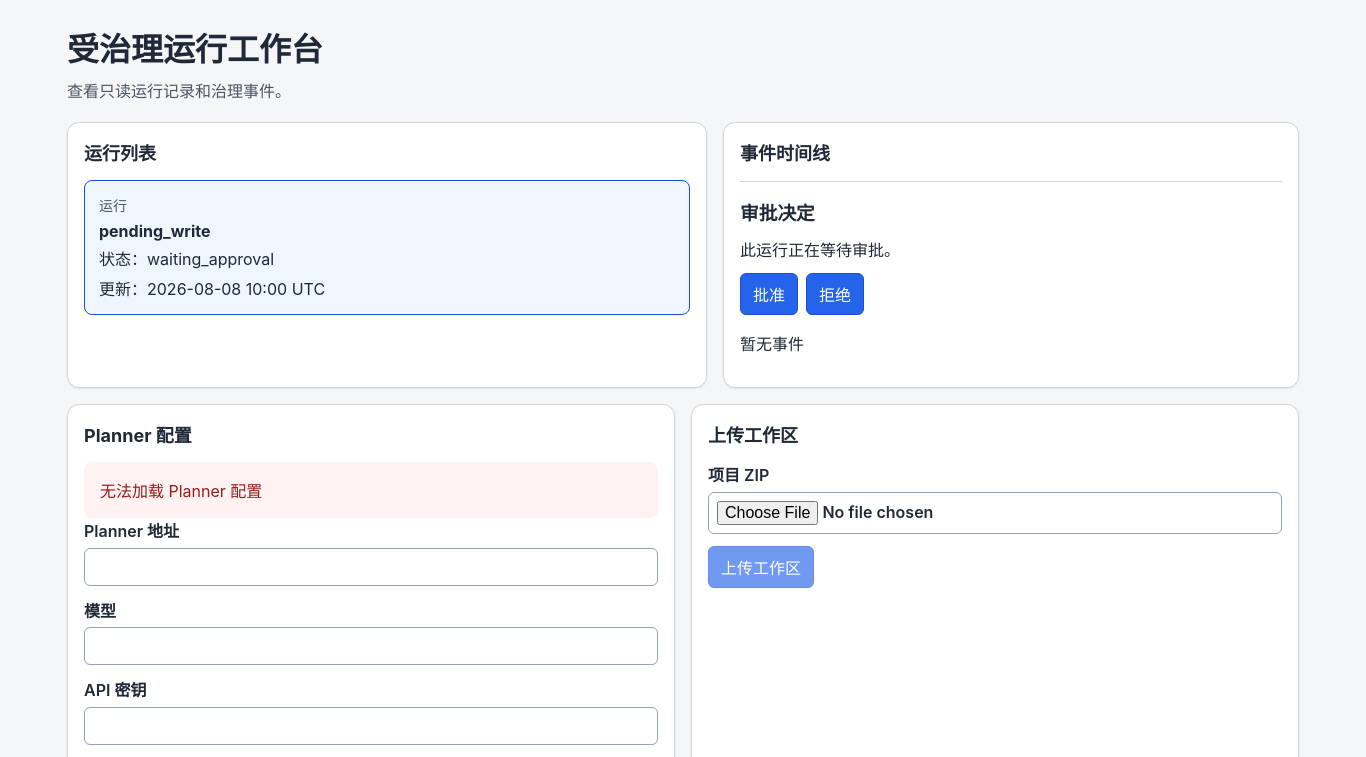
Scenario: App › reloads the selected run detail after a successful approval decision
Click the button "批准".
click(769, 294)  # box [740, 273, 798, 315]
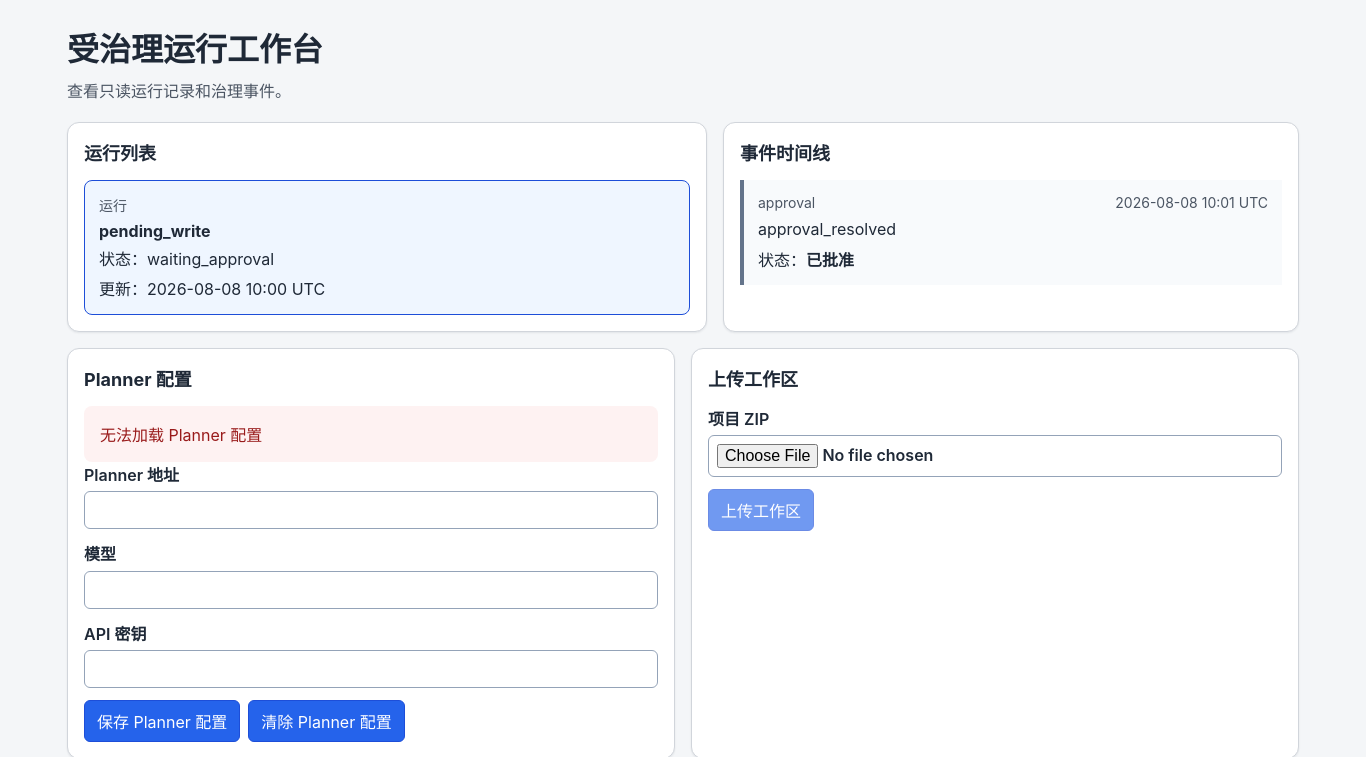
Check: the text "approval_resolved" is shown, box [758, 219, 896, 239]
